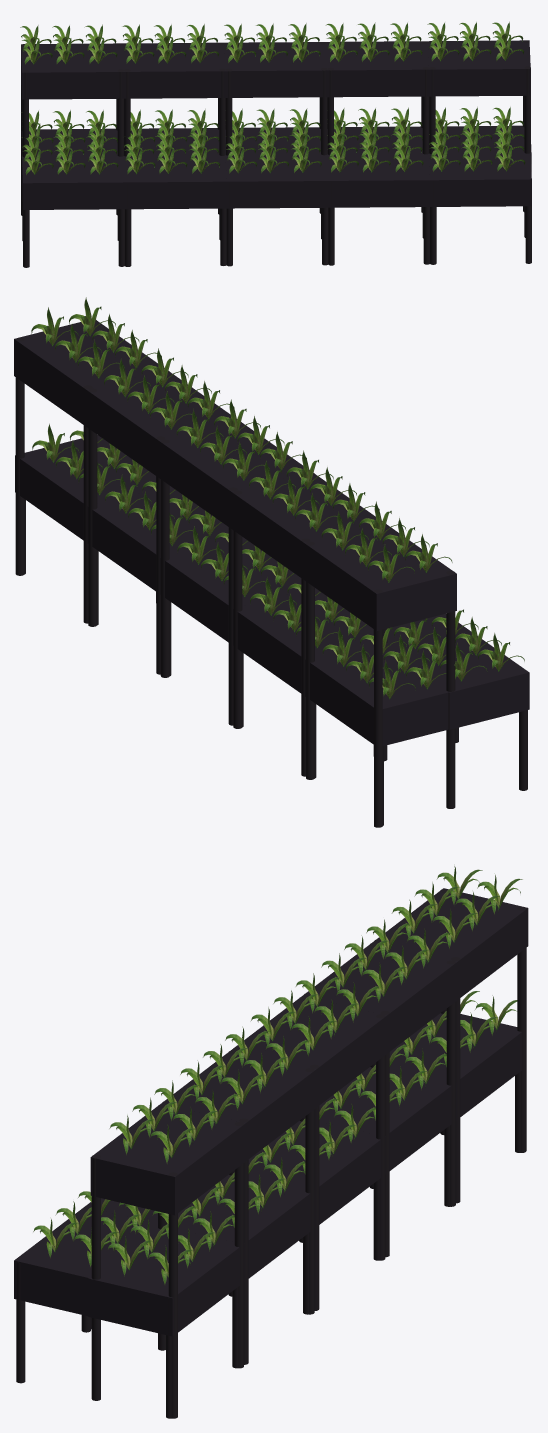
File: vegetray.glb
The picture shows the model from 3 angles, top to bottom: view 1: azimuth 30°, elevation 25°; view 2: azimuth 150°, elevation 25°; view 3: azimuth 270°, elevation 25°; orthographic projection. The views are drawn at different scales.
Parts seen in each view (by area): view 1: Entity0_oCpCwY4XSKqs7NzgE0qZRA0, Entity0_lWIYQ4nQRSmqS9bAQYJKPw0, Entity0_6LNPQrgIRVimvO1ueUSajQ0, Entity0_pZdAtt0UQieguJet_hppTQ0, Entity0_y0bPodmwQoakDtMuFc_p6A0, Entity0_JHz9bFTeRdySR33vyGEHHg0, Entity0_r4HX8z07QdGQyoML6rMmUA0, Entity0_qQY3HZ67STe_S28l1UqSSA0, Entity0_OvuA6HnpQCSnQIw3bHLhlA0, Entity0_CFK6pvccT22mJPMEtHMLeA0, Entity0_lGrecCDUQ_ufUSnS0bH2pw0, Entity0_L4l31gUDTb6xxWajD5TBDQ0 (+23 smaller); view 2: Entity0_y0bPodmwQoakDtMuFc_p6A0, Entity0_na_m2cryQTiV_aUlNYJlZA0, Entity0_6LNPQrgIRVimvO1ueUSajQ0, Entity0_r4HX8z07QdGQyoML6rMmUA0, Entity0_pZdAtt0UQieguJet_hppTQ0, Entity0_qQY3HZ67STe_S28l1UqSSA0, Entity0_lWIYQ4nQRSmqS9bAQYJKPw0, Entity0_Rhx2H09MQ2q0TJz_LI1zow0, Entity0_L4l31gUDTb6xxWajD5TBDQ0, Entity0_oH6XT_MJQc2A8FHhf6foqw0, Entity0_lGrecCDUQ_ufUSnS0bH2pw0, Entity0_Cylinder_38MtXDnUF2He0CvyMaFVNv_mesh_lod.026 (+12 smaller); view 3: Entity0_r4HX8z07QdGQyoML6rMmUA0, Entity0_L4l31gUDTb6xxWajD5TBDQ0, Entity0_y0bPodmwQoakDtMuFc_p6A0, Entity0_qQY3HZ67STe_S28l1UqSSA0, Entity0_pZdAtt0UQieguJet_hppTQ0, Entity0_6LNPQrgIRVimvO1ueUSajQ0, Entity0_CFK6pvccT22mJPMEtHMLeA0, Entity0_Rhx2H09MQ2q0TJz_LI1zow0, Entity0_lGrecCDUQ_ufUSnS0bH2pw0, Entity0_na_m2cryQTiV_aUlNYJlZA0, Entity0_oH6XT_MJQc2A8FHhf6foqw0, Entity0_Cylinder_38MtXDnUF2He0CvyMaFVNv_mesh_lod.002 (+11 smaller).
Part boxes in pixels (bbox=[...]): Entity0_oCpCwY4XSKqs7NzgE0qZRA0: bbox=[327, 151, 429, 207]; Entity0_lWIYQ4nQRSmqS9bAQYJKPw0: bbox=[22, 154, 124, 209]; Entity0_6LNPQrgIRVimvO1ueUSajQ0: bbox=[122, 42, 225, 98]; Entity0_pZdAtt0UQieguJet_hppTQ0: bbox=[224, 42, 327, 97]; Entity0_y0bPodmwQoakDtMuFc_p6A0: bbox=[21, 43, 123, 99]; Entity0_JHz9bFTeRdySR33vyGEHHg0: bbox=[124, 153, 226, 209]; Entity0_r4HX8z07QdGQyoML6rMmUA0: bbox=[428, 40, 530, 96]; Entity0_qQY3HZ67STe_S28l1UqSSA0: bbox=[326, 41, 428, 97]; Entity0_OvuA6HnpQCSnQIw3bHLhlA0: bbox=[225, 153, 328, 208]; Entity0_CFK6pvccT22mJPMEtHMLeA0: bbox=[429, 154, 531, 206]; Entity0_lGrecCDUQ_ufUSnS0bH2pw0: bbox=[225, 127, 327, 156]; Entity0_L4l31gUDTb6xxWajD5TBDQ0: bbox=[429, 125, 531, 171]; Entity0_y0bPodmwQoakDtMuFc_p6A0: bbox=[304, 525, 456, 630]; Entity0_na_m2cryQTiV_aUlNYJlZA0: bbox=[305, 642, 457, 745]; Entity0_6LNPQrgIRVimvO1ueUSajQ0: bbox=[231, 474, 375, 579]; Entity0_r4HX8z07QdGQyoML6rMmUA0: bbox=[14, 321, 158, 426]; Entity0_pZdAtt0UQieguJet_hppTQ0: bbox=[159, 423, 303, 528]; Entity0_qQY3HZ67STe_S28l1UqSSA0: bbox=[86, 372, 230, 477]; Entity0_lWIYQ4nQRSmqS9bAQYJKPw0: bbox=[385, 622, 529, 729]; Entity0_Rhx2H09MQ2q0TJz_LI1zow0: bbox=[87, 488, 226, 591]; Entity0_L4l31gUDTb6xxWajD5TBDQ0: bbox=[15, 437, 155, 540]; Entity0_oH6XT_MJQc2A8FHhf6foqw0: bbox=[233, 590, 371, 693]; Entity0_lGrecCDUQ_ufUSnS0bH2pw0: bbox=[160, 540, 299, 642]; Entity0_Cylinder_38MtXDnUF2He0CvyMaFVNv_mesh_lod.026: bbox=[374, 589, 382, 827]; Entity0_r4HX8z07QdGQyoML6rMmUA0: bbox=[90, 1103, 245, 1215]; Entity0_L4l31gUDTb6xxWajD5TBDQ0: bbox=[88, 1226, 239, 1336]; Entity0_y0bPodmwQoakDtMuFc_p6A0: bbox=[373, 888, 528, 999]; Entity0_qQY3HZ67STe_S28l1UqSSA0: bbox=[161, 1049, 316, 1161]; Entity0_pZdAtt0UQieguJet_hppTQ0: bbox=[232, 996, 386, 1107]; Entity0_6LNPQrgIRVimvO1ueUSajQ0: bbox=[303, 942, 457, 1053]; Entity0_CFK6pvccT22mJPMEtHMLeA0: bbox=[14, 1206, 160, 1316]; Entity0_Rhx2H09MQ2q0TJz_LI1zow0: bbox=[178, 1174, 310, 1281]; Entity0_lGrecCDUQ_ufUSnS0bH2pw0: bbox=[248, 1121, 380, 1227]; Entity0_na_m2cryQTiV_aUlNYJlZA0: bbox=[390, 1014, 522, 1120]; Entity0_oH6XT_MJQc2A8FHhf6foqw0: bbox=[319, 1067, 451, 1174]; Entity0_Cylinder_38MtXDnUF2He0CvyMaFVNv_mesh_lod.002: bbox=[91, 1154, 100, 1400].
Bounding box in the file's own units: 2.77 × 1.18 × 1.96.
Materials: 4 (1 with a texture image).
